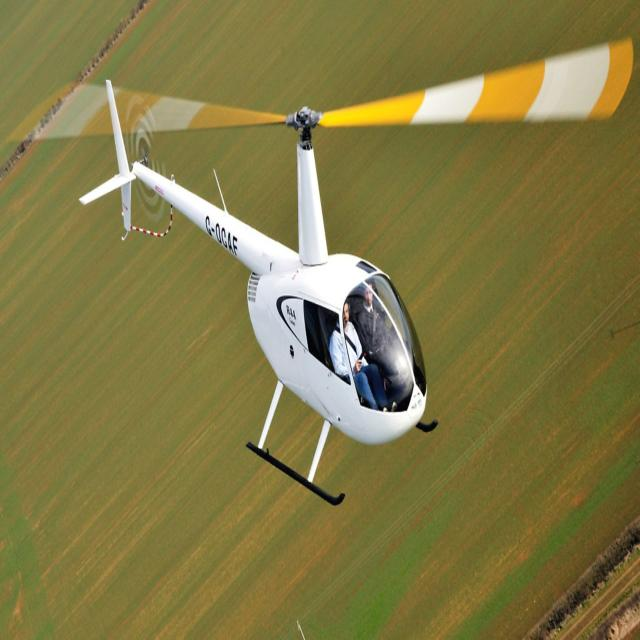CIV_HELO: (78, 77, 440, 509)
